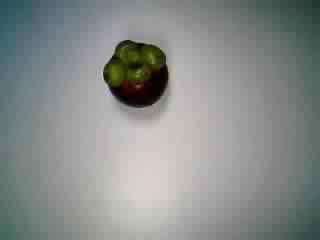mangosteen: (95, 32, 174, 112)
